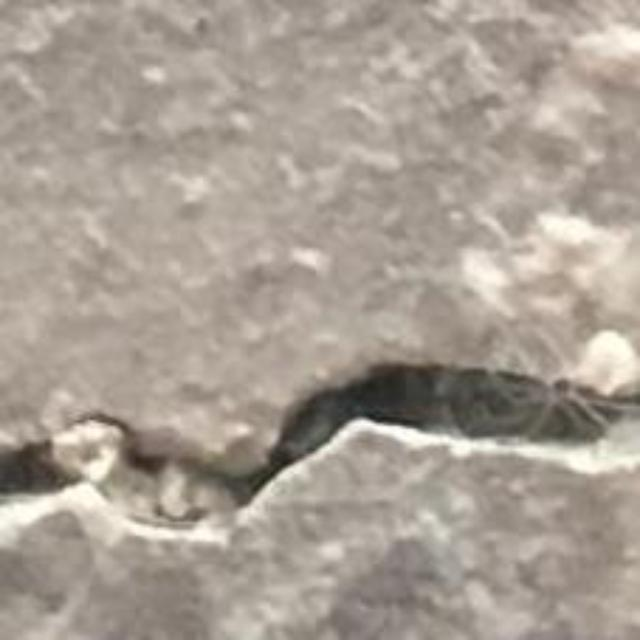crack: (0, 364, 639, 521)
